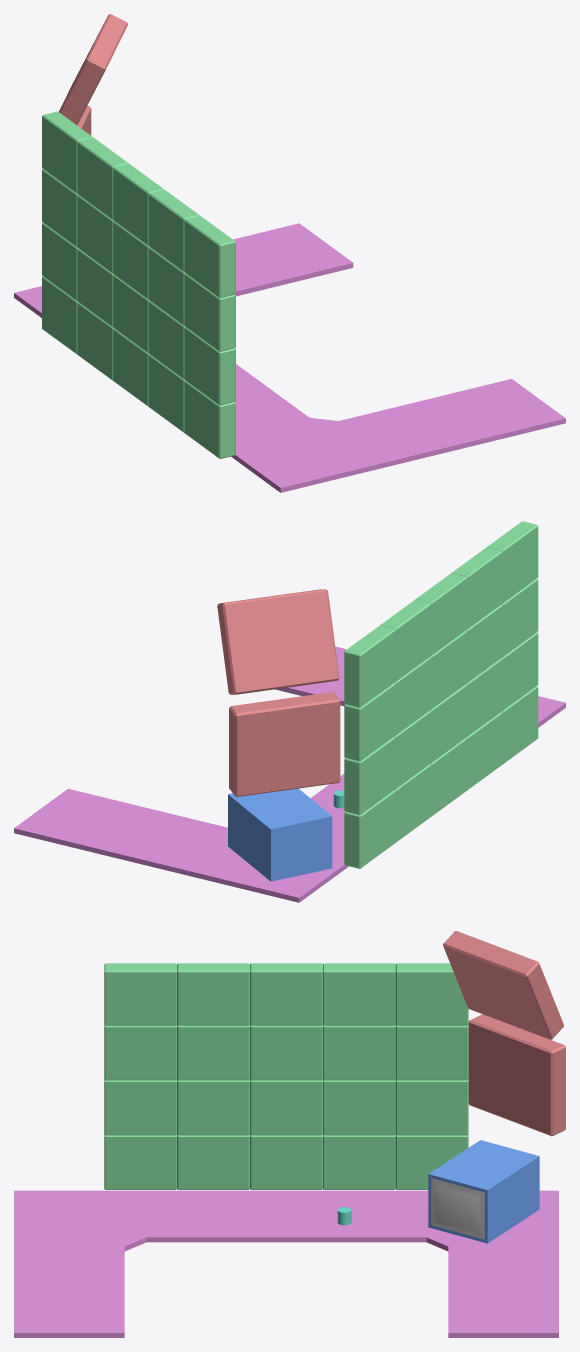
The model's file is security_test.glb.
3 renders of one model, top to bottom at view 1: azimuth 30°, elevation 25°; view 2: azimuth 150°, elevation 25°; view 3: azimuth 270°, elevation 25°, orthographic. The views are drawn at different scales.
Parts seen in each view (by area): view 1: Plane, Cube.001, Plane.003; view 2: Plane, Cube.001, Plane.003, Plane.002, Plane.001; view 3: Plane, Cube.001, Plane.002, Plane.001, Plane.003.
Boxes of the visible parts, x1,y1,x2,y2 form: Plane: (42, 111, 235, 458); Cube.001: (14, 223, 565, 492); Plane.003: (59, 14, 127, 124); Plane: (344, 521, 538, 868); Cube.001: (14, 646, 565, 902); Plane.003: (217, 589, 339, 694); Plane.002: (229, 692, 340, 796); Plane.001: (228, 788, 332, 881); Plane: (104, 963, 468, 1189); Cube.001: (14, 1190, 558, 1337); Plane.002: (468, 1014, 565, 1136); Plane.001: (428, 1140, 539, 1243); Plane.003: (443, 931, 563, 1039).
Size of the model in its own units: 2.46 by 2.1 by 3.8.
